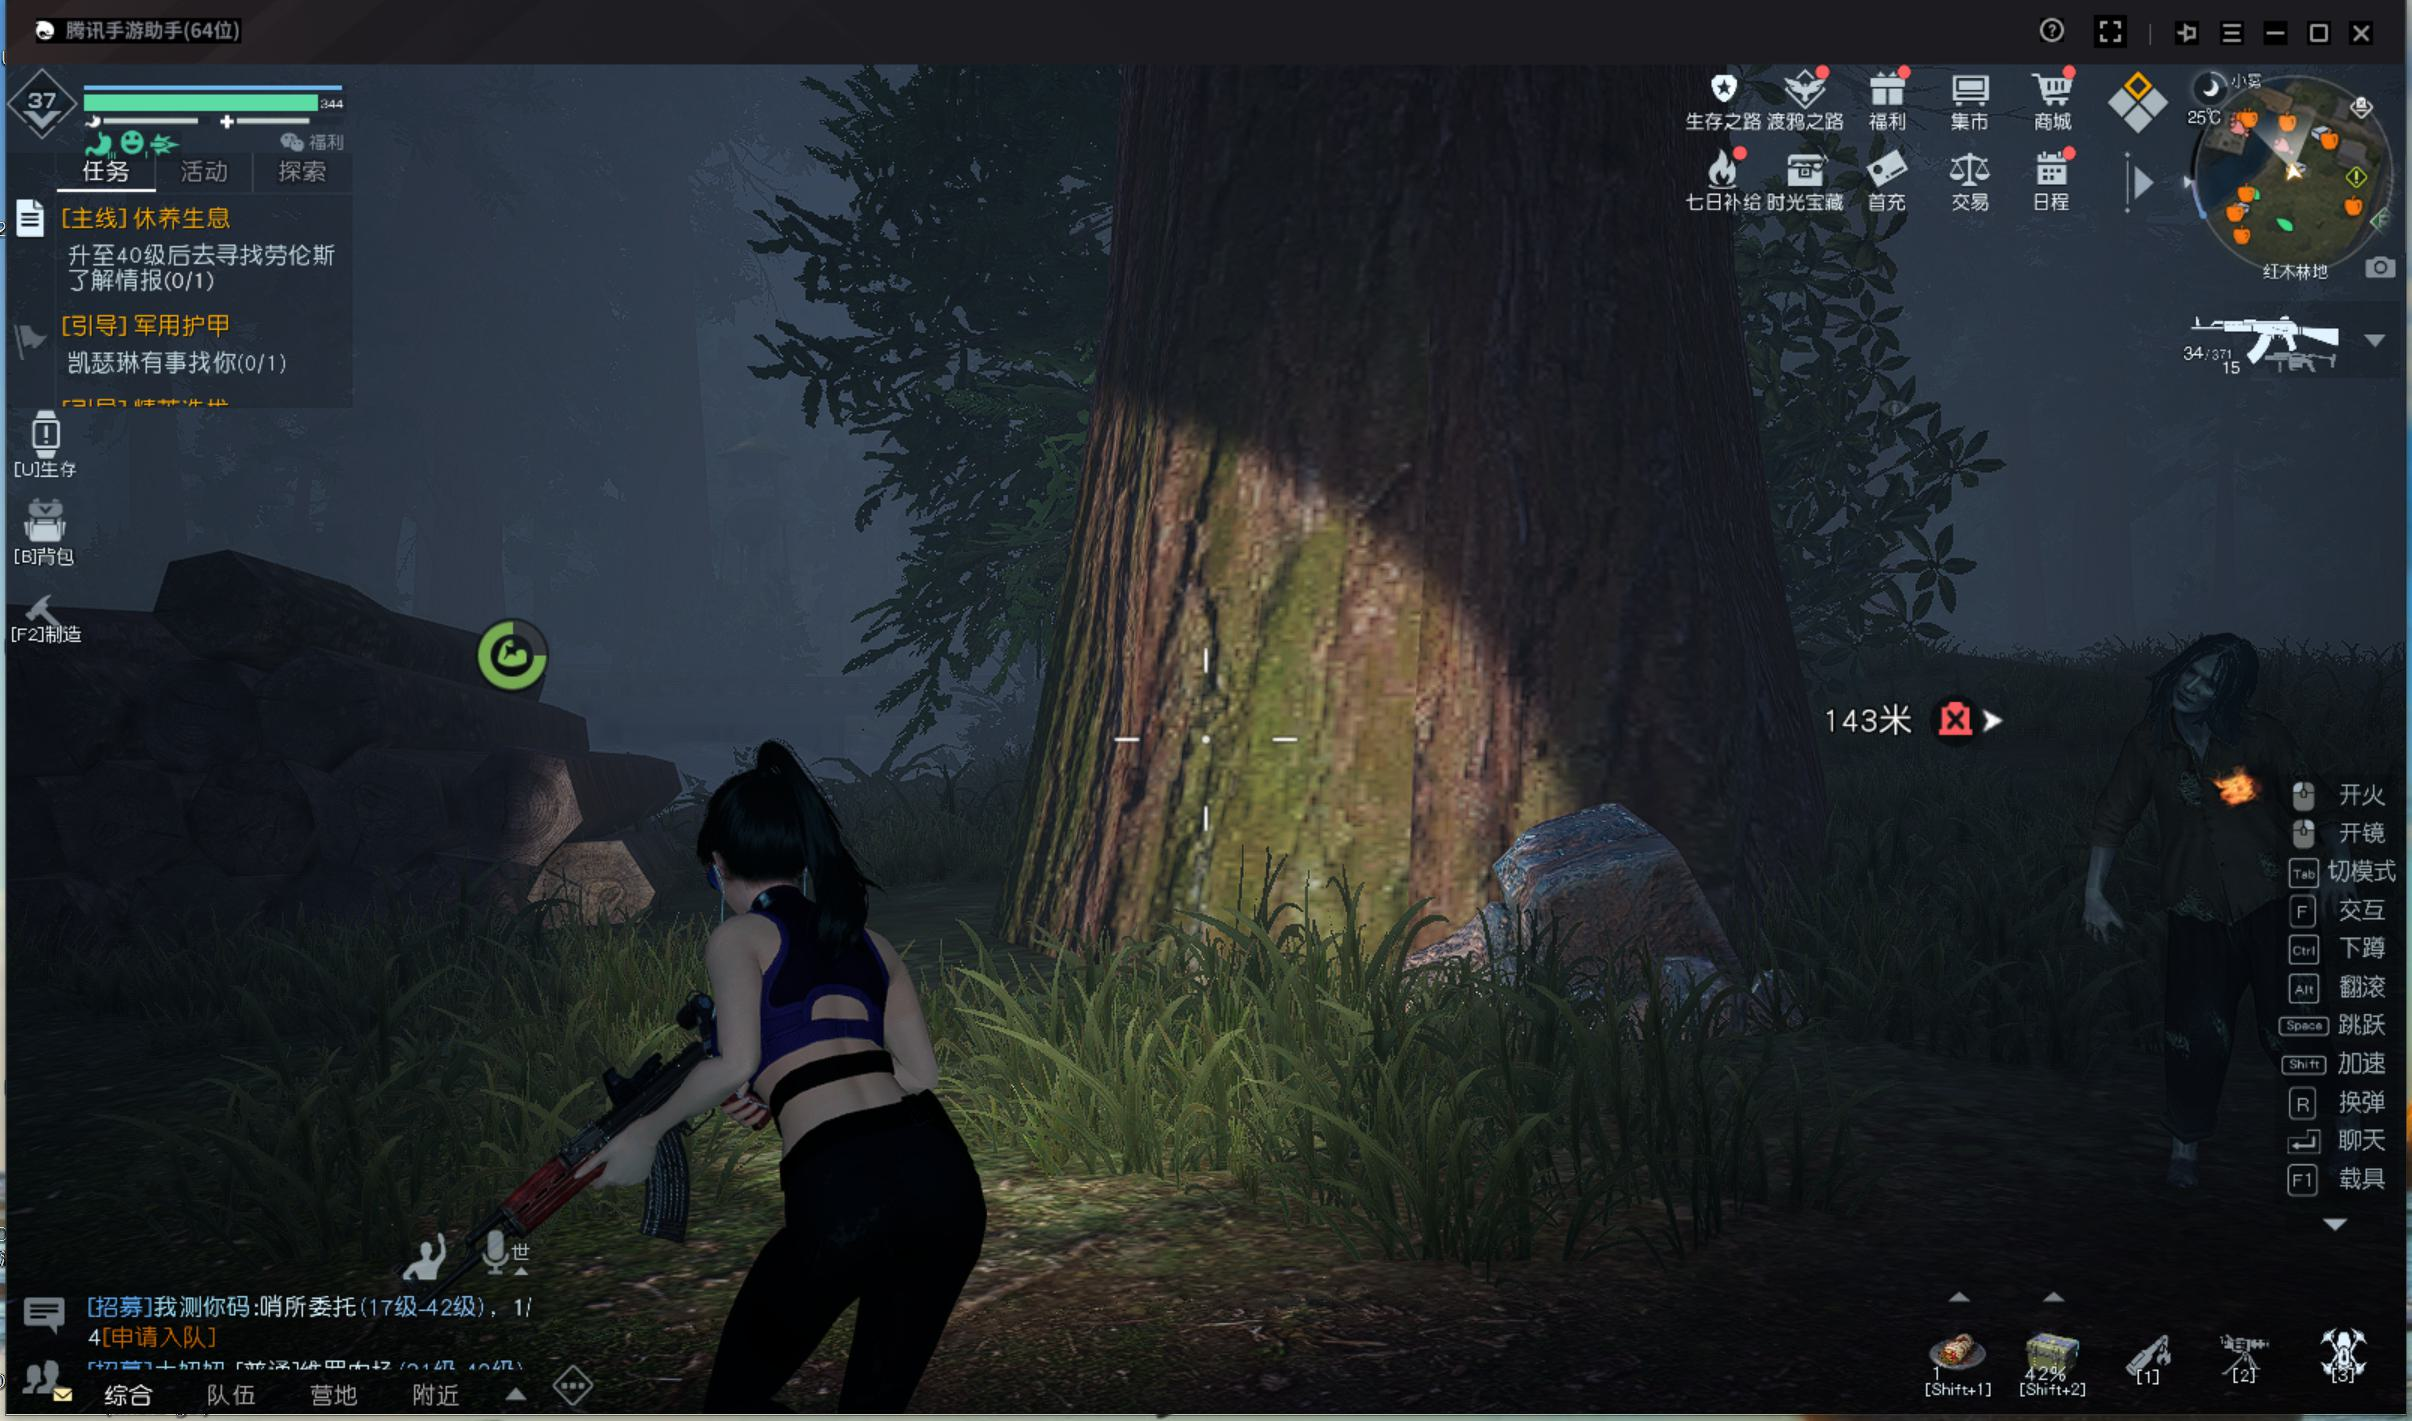stone: (1394, 798, 1761, 1052)
